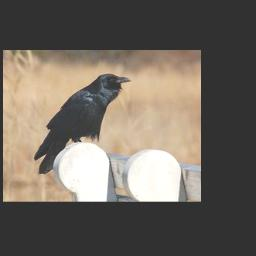Crow: (33, 73, 131, 175)
